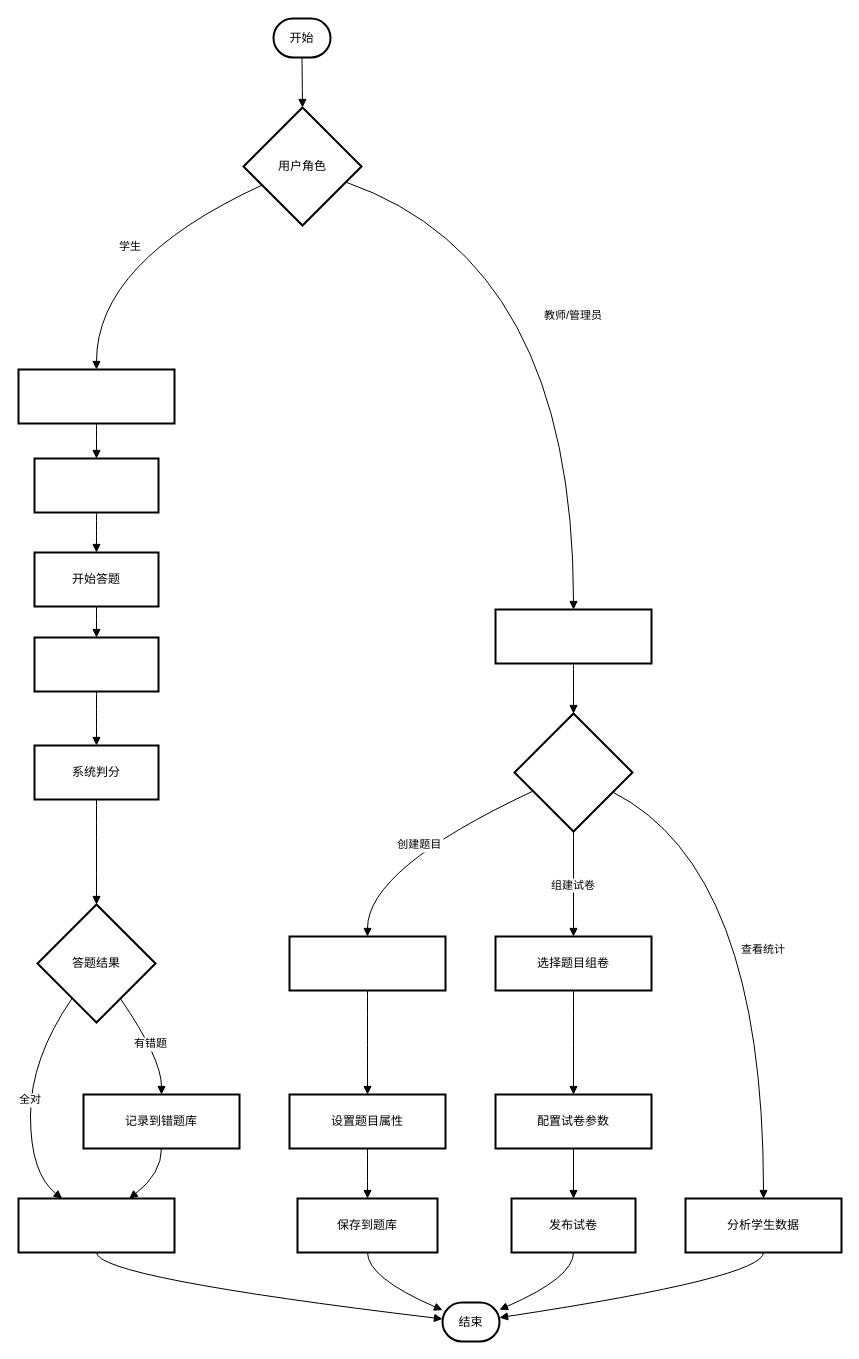
This 859x1359 diagram has some shape labels left out. Here are the shapes that lost their labels. From the top down, the centre of each, then its label:
At (x=96, y=396): "查看试题目录".
At (x=96, y=485): "选择试卷".
At (x=573, y=636): "进入题库管理".
At (x=96, y=664): "提交答案".
At (x=573, y=772): "操作类型".
At (x=367, y=963): "编辑题目信息".
At (x=96, y=1225): "更新学习进度".
